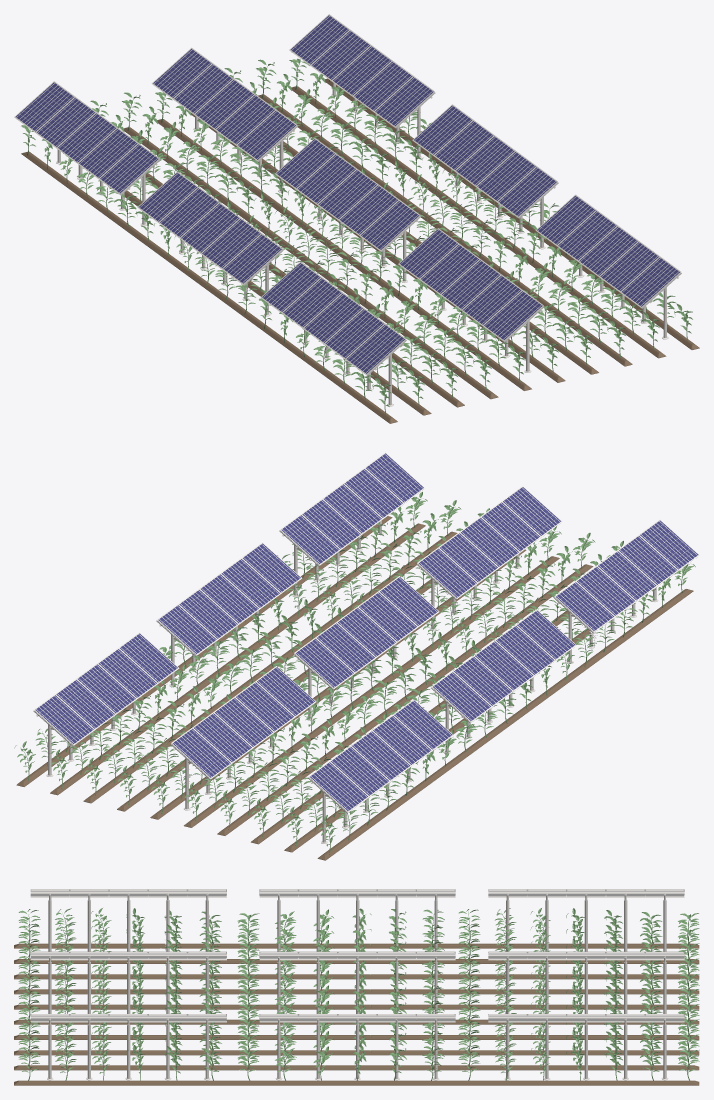
The model's file is nyDraco.gltf.
3 views of the same model, one above another, from view 1: azimuth 30°, elevation 25°; view 2: azimuth 150°, elevation 25°; view 3: azimuth 270°, elevation 25° (orthographic). The views are drawn at different scales.
Parts seen in each view (by area): view 1: 光伏 (×45), 泥土 0, 泥土 3, 泥土 8, 泥土 4, 泥土 7, 泥土 9, 泥土 5, 泥土 2, 泥土 6, 泥土 1; view 2: 光伏 (×45), 泥土 0, 泥土 3, 泥土 4, 泥土 8, 泥土 7, 泥土 9, 泥土 5, 泥土 2, 泥土 6, 泥土 1; view 3: 长梁 (×18), 泥土 9, 泥土 8, 泥土 0, 泥土 7, 泥土 2, 泥土 3, 泥土 4, 泥土 6, 泥土 1, 泥土 5.
Part boxes in pixels (<box>): 光伏 (×45): <box>16,15,679,373</box>; 泥土 0: <box>21,151,397,423</box>; 泥土 3: <box>123,127,498,399</box>; 泥土 8: <box>291,86,666,358</box>; 泥土 4: <box>157,119,531,390</box>; 泥土 7: <box>258,94,632,366</box>; 泥土 9: <box>325,78,699,349</box>; 泥土 5: <box>191,113,565,382</box>; 泥土 2: <box>145,173,464,407</box>; 泥土 6: <box>278,141,598,374</box>; 泥土 1: <box>124,190,431,415</box>; 光伏 (×45): <box>35,453,698,810</box>; 泥土 0: <box>317,589,693,860</box>; 泥土 3: <box>217,564,593,835</box>; 泥土 4: <box>184,556,559,827</box>; 泥土 8: <box>50,523,425,795</box>; 泥土 7: <box>83,531,457,803</box>; 泥土 9: <box>16,516,392,786</box>; 泥土 5: <box>150,549,526,819</box>; 泥土 2: <box>251,610,568,844</box>; 泥土 6: <box>117,579,431,811</box>; 泥土 1: <box>284,628,589,852</box>; 长梁 (×18): <box>30,892,684,1022</box>; 泥土 9: <box>14,1080,699,1085</box>; 泥土 8: <box>14,1065,699,1070</box>; 泥土 0: <box>14,943,699,948</box>; 泥土 7: <box>14,1050,699,1055</box>; 泥土 2: <box>14,974,699,979</box>; 泥土 3: <box>14,989,699,994</box>; 泥土 4: <box>14,1004,699,1009</box>; 泥土 6: <box>14,1035,699,1039</box>; 泥土 1: <box>14,959,699,963</box>; 泥土 5: <box>14,1019,699,1024</box>.
Size of what is drawn, in the model's own units: 1086 by 227 by 2098.
